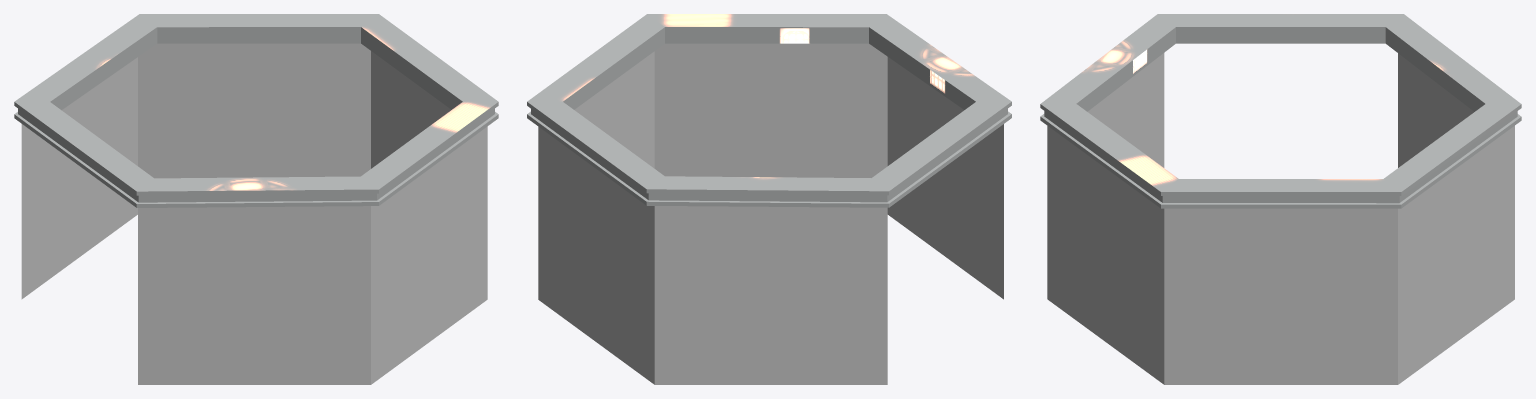
Rendered from SM_ElevatorGlassDoorWay.fbx.
3 views of the same model, side by side, from view 1: azimuth 30°, elevation 25°; view 2: azimuth 150°, elevation 25°; view 3: azimuth 270°, elevation 25° (orthographic).
Visible parts, largest first — view 1: SM_ElevatorGlassDoorWay_LOD0; view 2: SM_ElevatorGlassDoorWay_LOD0; view 3: SM_ElevatorGlassDoorWay_LOD0.
Boxes of the visible parts, x1,y1,x2,y2 form: SM_ElevatorGlassDoorWay_LOD0: (14,14,498,384); SM_ElevatorGlassDoorWay_LOD0: (527,14,1011,384); SM_ElevatorGlassDoorWay_LOD0: (1040,14,1521,384).
Bounding box in the file's own units: 800 × 414 × 914.
Materials: 2 (1 with a texture image).
